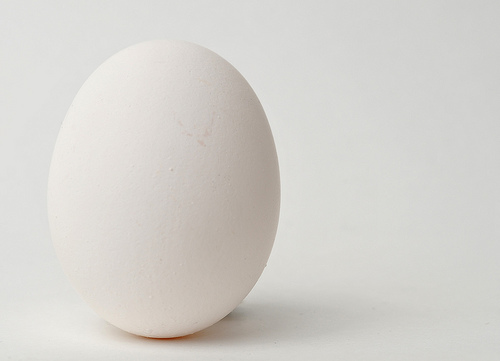egg: (39, 21, 304, 350)
